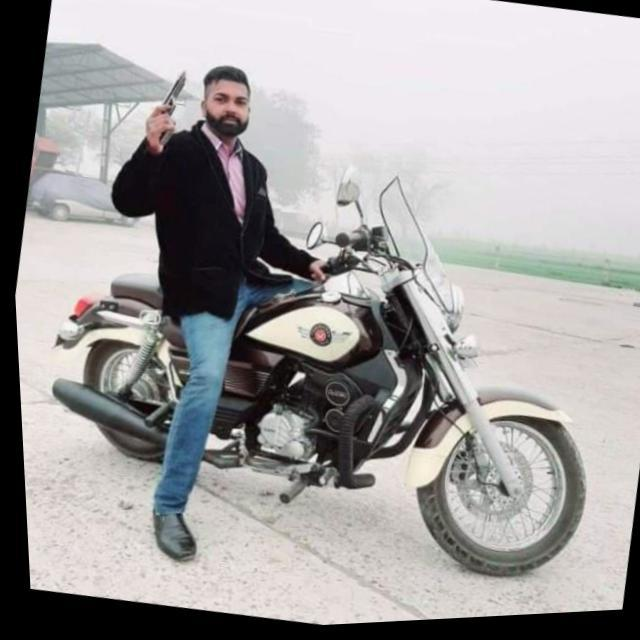weapon: (134, 65, 201, 156)
